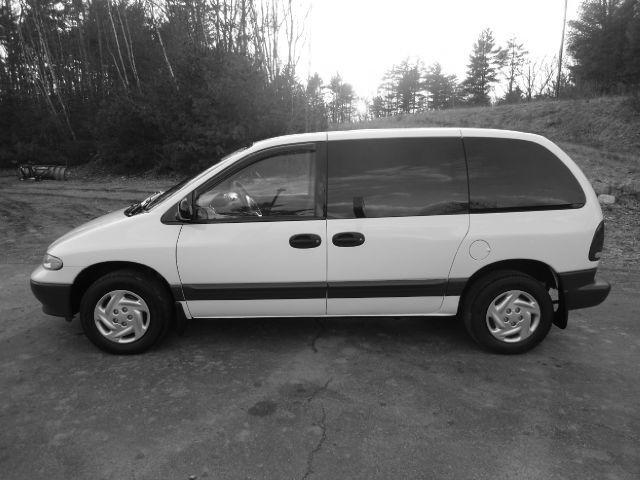car: (26, 126, 615, 344)
